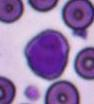L: (24, 30, 70, 80)
